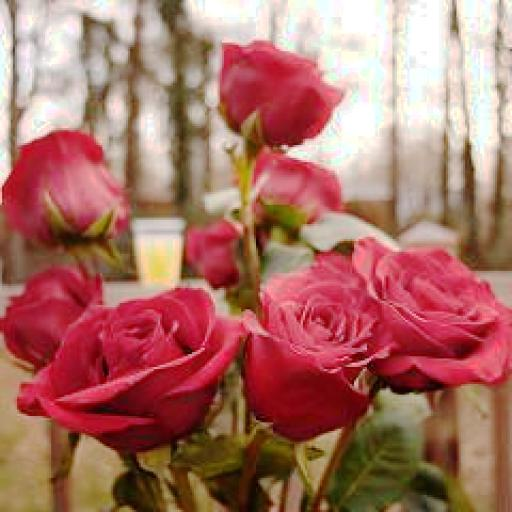rose: (26, 278, 232, 452), (247, 252, 380, 426), (371, 239, 512, 390), (2, 132, 130, 237), (220, 38, 343, 145)
